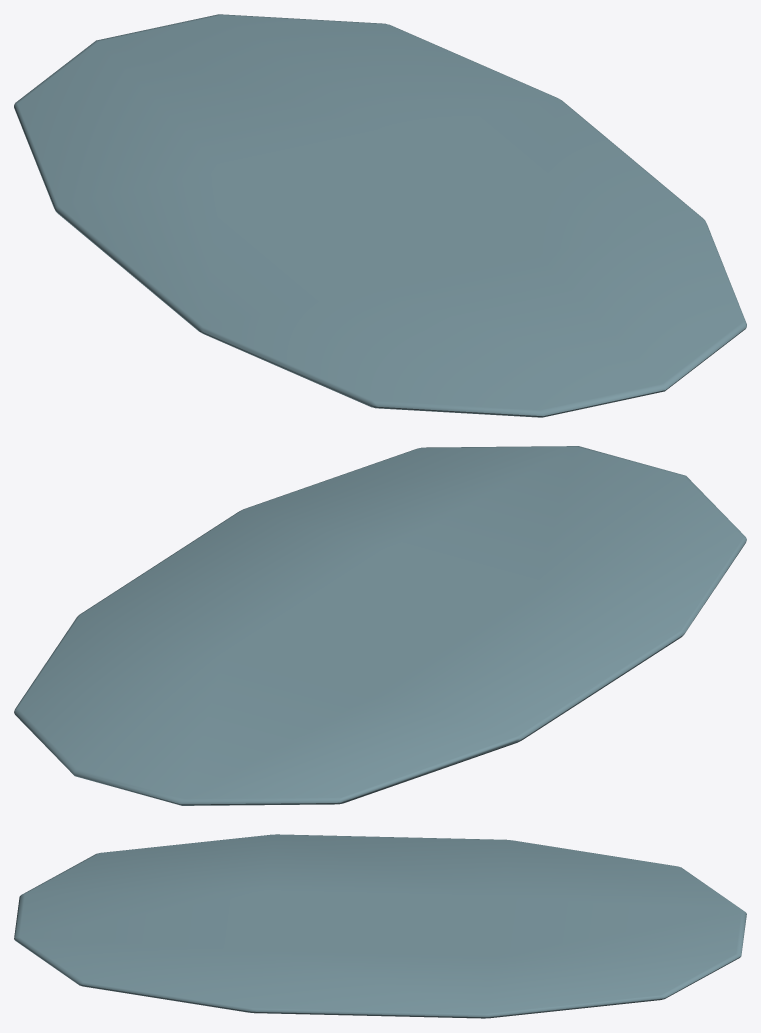
File: Bedroom_mat.fbx
The picture shows the model from 3 angles, top to bottom: view 1: azimuth 30°, elevation 25°; view 2: azimuth 150°, elevation 25°; view 3: azimuth 270°, elevation 25°; orthographic projection. The views are drawn at different scales.
Parts seen in each view (by area): view 1: Bedroom_mat; view 2: Bedroom_mat; view 3: Bedroom_mat.
Part boxes in pixels (box(x1,y1,x2,y2)): Bedroom_mat: box(14, 14, 746, 417); Bedroom_mat: box(14, 446, 746, 805); Bedroom_mat: box(14, 834, 746, 1018).
Size of the model in its own units: 279 by 3.49 by 476.
